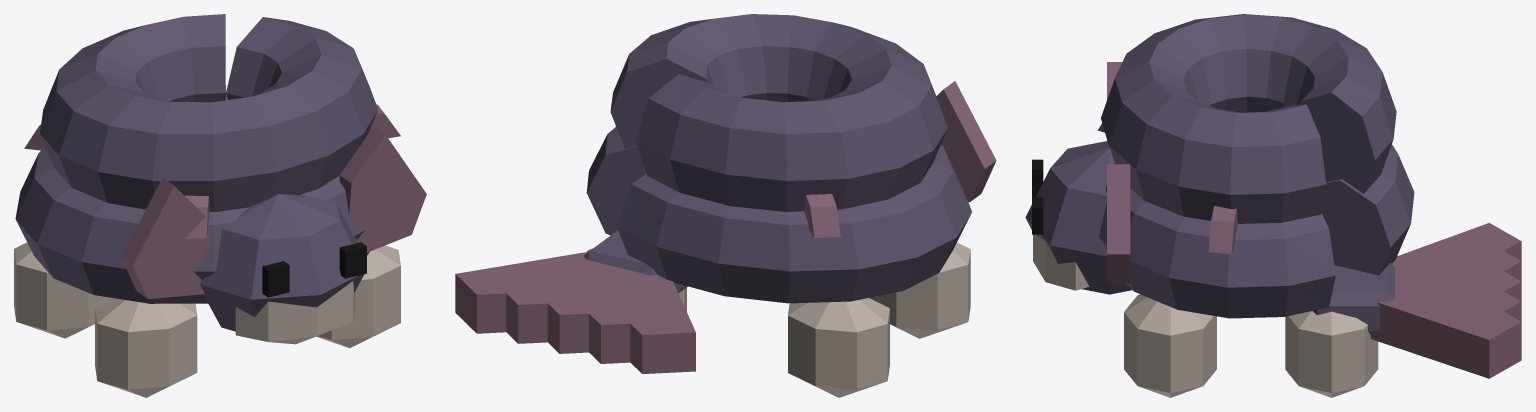
File: nullwrithe.glb
3 renders of one model, left to right at view 1: azimuth 30°, elevation 25°; view 2: azimuth 150°, elevation 25°; view 3: azimuth 270°, elevation 25°, orthographic.
Visible parts, largest first — view 1: Nullwrithe; view 2: Nullwrithe; view 3: Nullwrithe.
Part boxes in pixels (x1,y1,x2,y2): Nullwrithe: (14, 14, 426, 397); Nullwrithe: (455, 14, 996, 397); Nullwrithe: (1025, 14, 1521, 397).
Size of the model in its own units: 0.86 by 0.62 by 0.98.
